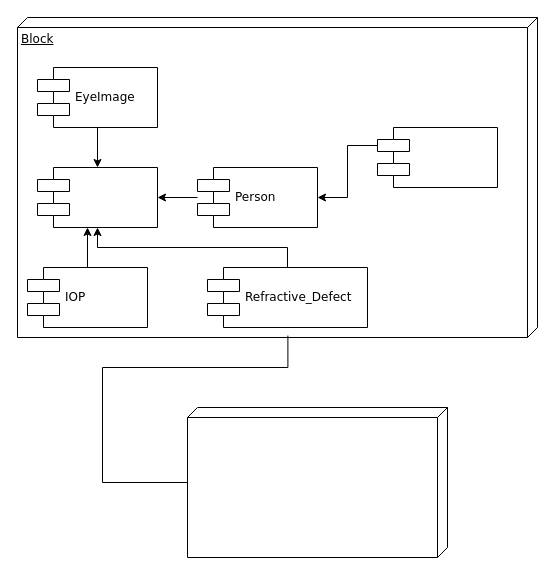
This 555x575 diagram has some shape labels left out. Each missing label, with the centre of its shape:
"Database" goes at (x=437, y=157).
"Eye" goes at (x=97, y=197).
"Main program" goes at (x=317, y=482).
